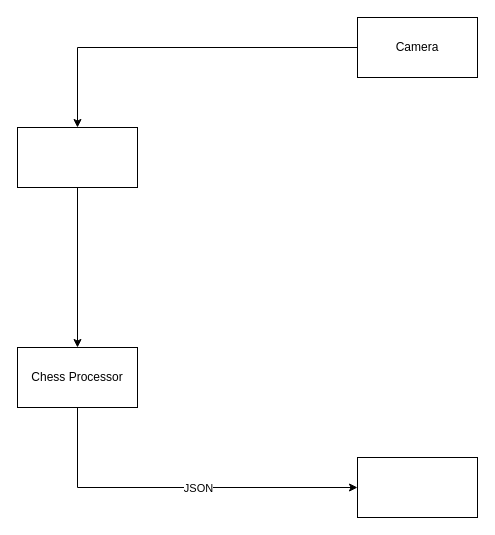
This 495x535 diagram has some shape labels left out. Each missing label, with the centre of its shape:
"Board Code" belongs at [417,487].
"Computer Vision" belongs at [77,157].
